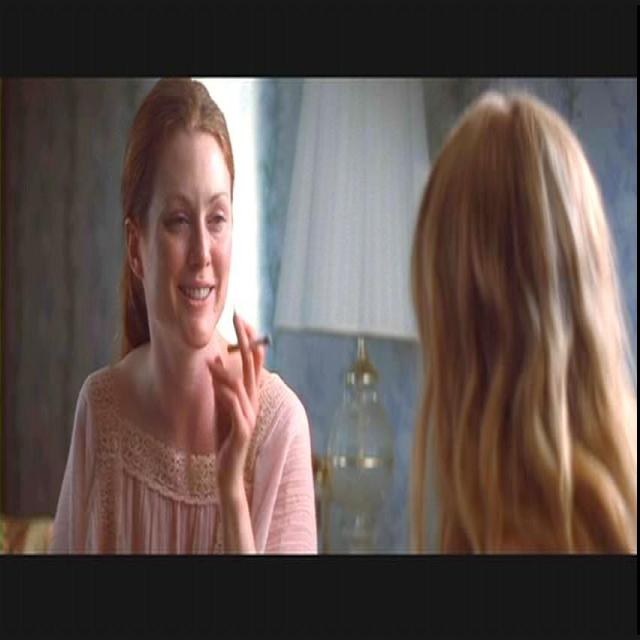cigarette: (217, 323, 277, 365)
